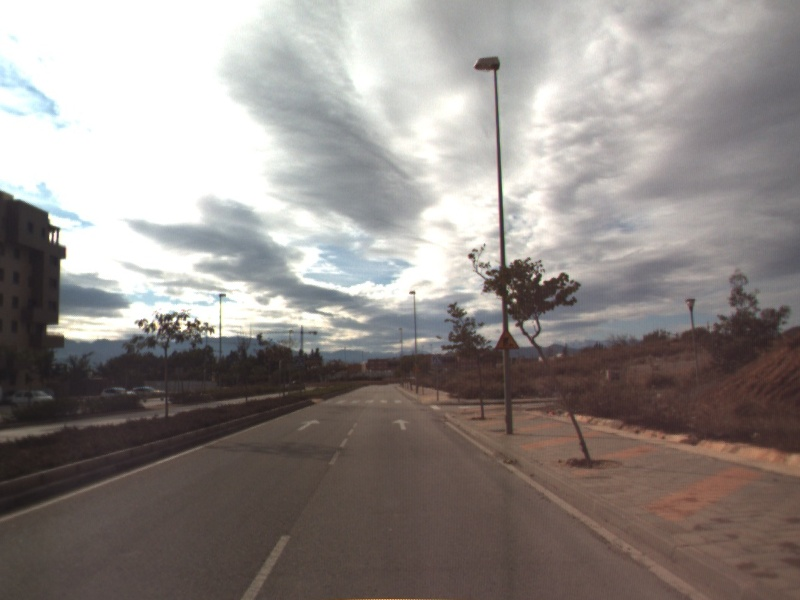STRAIGHT: (295, 417, 322, 432), (390, 417, 412, 432)
